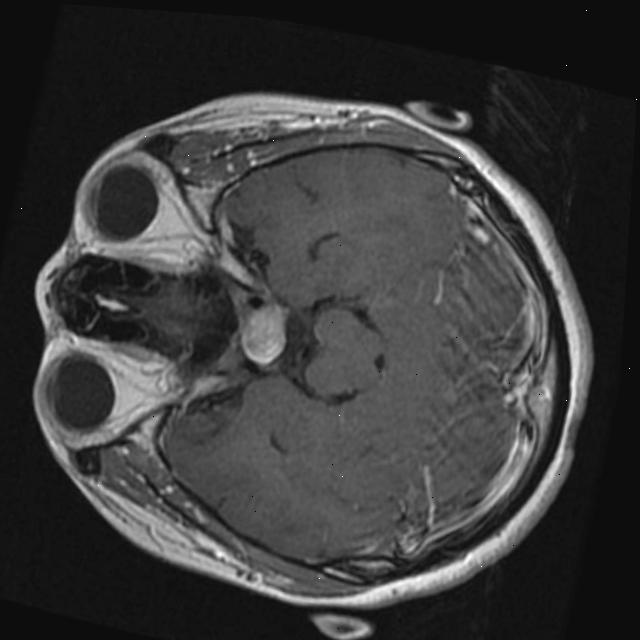Pituitary: (235, 297, 293, 368)
